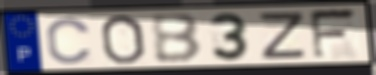3: (206, 11, 253, 63)
B: (148, 12, 204, 64)
C: (44, 16, 94, 66)
F: (307, 7, 361, 62)
O: (98, 13, 147, 66)
Z: (259, 10, 309, 61)
